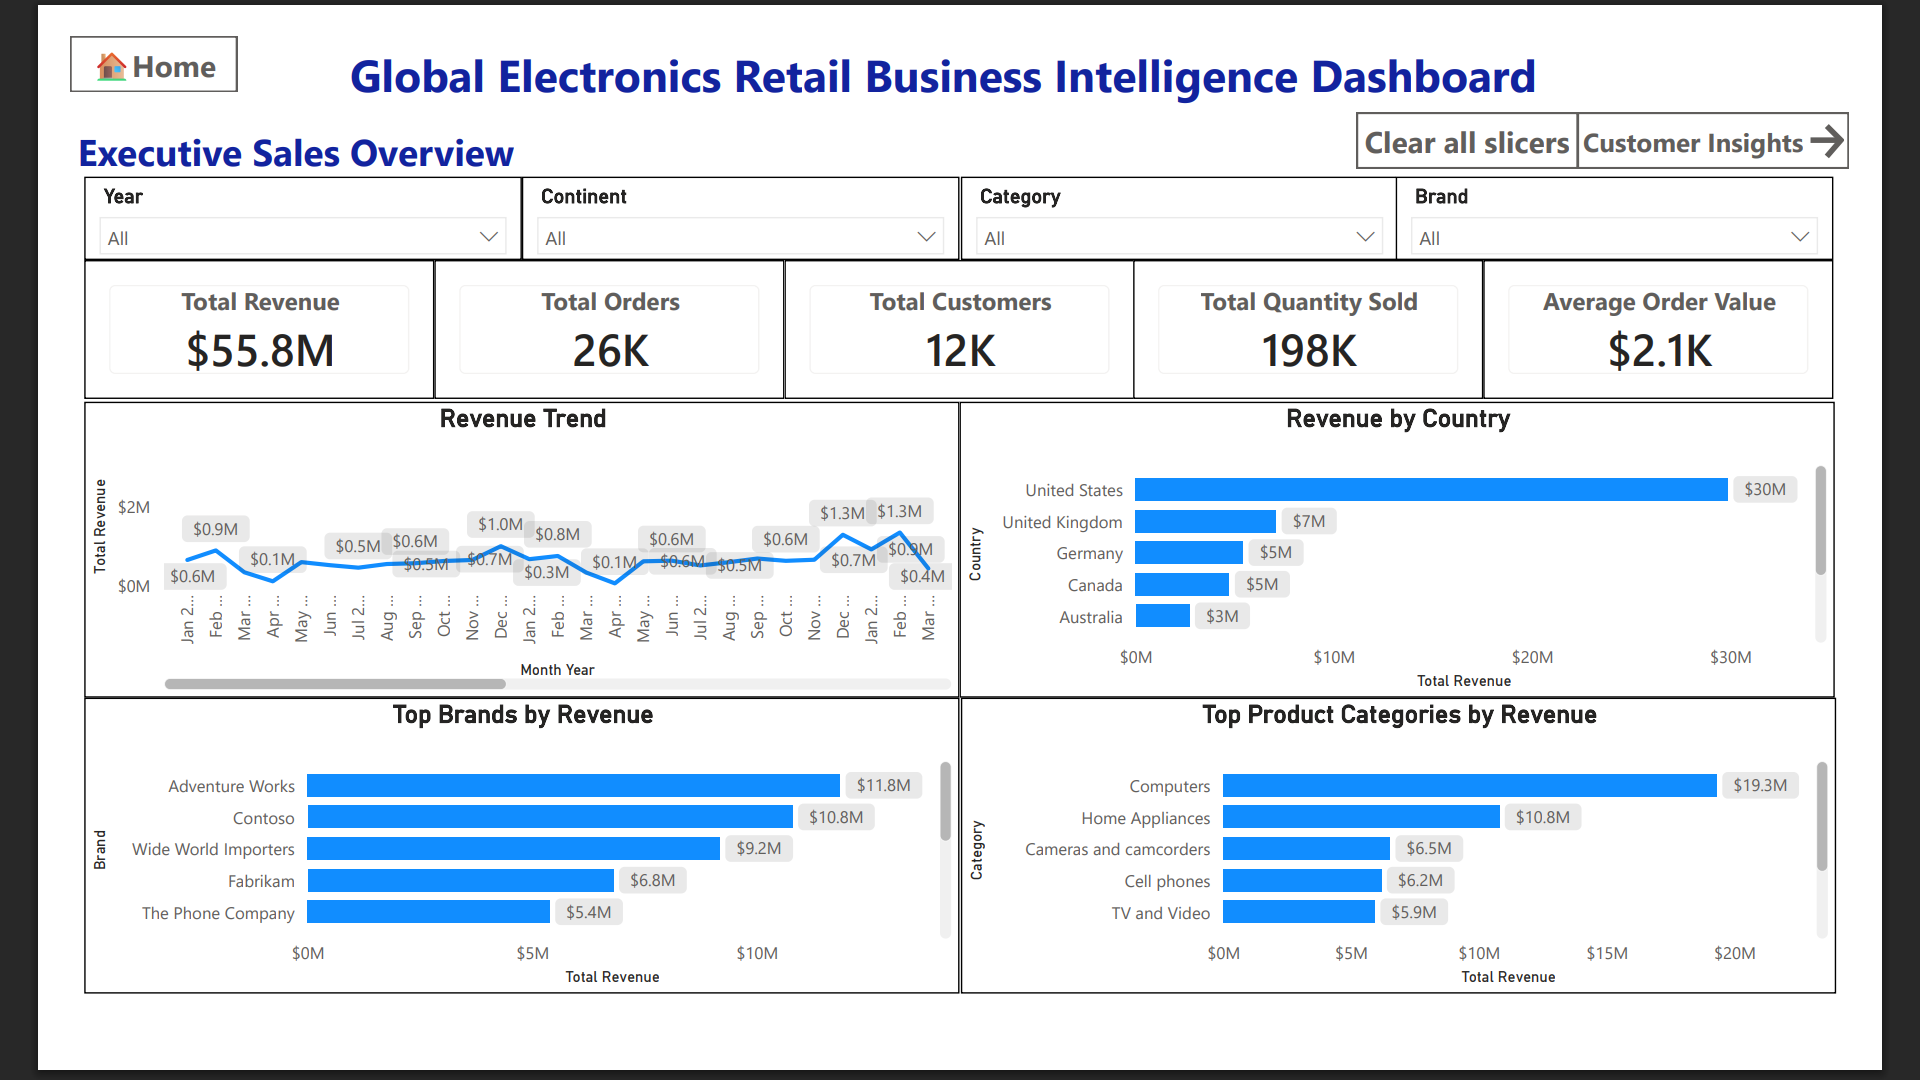

What the dashboard file says about the page in this screenshot:
{"tool":"powerbi","page":{"name":"Executive Sales Overview","canvas":[1280,720],"ordinal":1},"visuals":[{"type":"cardVisual","fields":{"Data":["Sales.Total Customers"]},"box":[513.6,161.4,252,100],"z":0},{"type":"cardVisual","fields":{"Data":["Sales.Total Quantity Sold"]},"box":[765.5,161.4,252,100],"z":1000},{"type":"cardVisual","fields":{"Data":["Sales.Average Order Value"]},"box":[1017.4,161.4,252,100],"z":2000},{"type":"cardVisual","fields":{"Data":["Sales.Total Revenue"]},"box":[9.8,161.4,252,100],"z":3000},{"type":"cardVisual","fields":{"Data":["Sales.Total Orders"]},"box":[261.7,161.4,252,100],"z":4000},{"type":"textbox","box":[160.5,0,935,55],"z":5000},{"type":"textbox","box":[0,59,325.2,54.9],"z":6000},{"type":"lineChart","title":"Revenue Trend","fields":{"Y":["Sales.Total Revenue"],"Category":["Calendar.Month Year"]},"box":[9.8,262.9,630,213],"z":7000},{"type":"clusteredBarChart","title":"Revenue by Country","fields":{"Category":["Customers.Country"],"Y":["Sales.Total Revenue"]},"box":[639.5,262.9,630,213],"z":8000},{"type":"clusteredBarChart","title":"Top Product Categories by Revenue","fields":{"Category":["Products.Category"],"Y":["Sales.Total Revenue"]},"box":[640.8,475.7,630,213],"z":9000},{"type":"clusteredBarChart","title":"Top Brands by Revenue","fields":{"Y":["Sales.Total Revenue"],"Category":["Products.Brand"]},"box":[9.8,475.7,630,213],"z":10000},{"type":"slicer","fields":{"Values":["Calendar.Year"]},"box":[9.8,101.5,315,60],"z":11000},{"type":"slicer","fields":{"Values":["Customers.Continent"]},"box":[325.3,101.5,315,60],"z":12000},{"type":"slicer","fields":{"Values":["Products.Category"]},"box":[640.8,101.5,315,60],"z":13000},{"type":"slicer","fields":{"Values":["Products.Brand"]},"box":[953.8,101.5,315,60],"z":14000},{"type":"actionButton","box":[1084.7,55,195.7,40.4],"z":15000},{"type":"actionButton","box":[0,0,119.8,40.4],"z":16000},{"type":"actionButton","box":[925.7,55,159,40.4],"z":17000}]}

Visuals, with their boxes in screenshot pixels (x1, y1, x2, y2), scaled from the page's 1280x720 canvas onto the 1920x1080 screenshot:
cardVisual - Sales.Total Customers: 770 242 1148 392
cardVisual - Sales.Total Quantity Sold: 1148 242 1526 392
cardVisual - Sales.Average Order Value: 1526 242 1904 392
cardVisual - Sales.Total Revenue: 15 242 393 392
cardVisual - Sales.Total Orders: 393 242 771 392
textbox: 241 0 1643 82
textbox: 0 88 488 171
"Revenue Trend" lineChart: 15 394 960 714
"Revenue by Country" clusteredBarChart: 959 394 1904 714
"Top Product Categories by Revenue" clusteredBarChart: 961 714 1906 1033
"Top Brands by Revenue" clusteredBarChart: 15 714 960 1033
slicer - Calendar.Year: 15 152 487 242
slicer - Customers.Continent: 488 152 960 242
slicer - Products.Category: 961 152 1434 242
slicer - Products.Brand: 1431 152 1903 242
actionButton: 1627 82 1919 143
actionButton: 0 0 180 61
actionButton: 1389 82 1627 143
